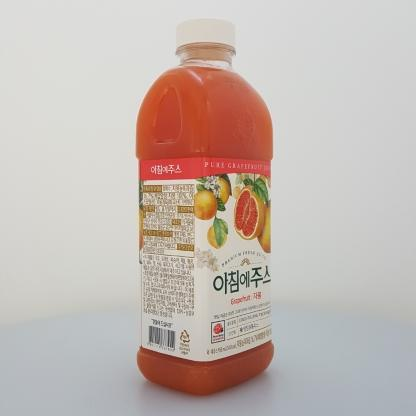-----------950ML: (136, 18, 274, 397)
